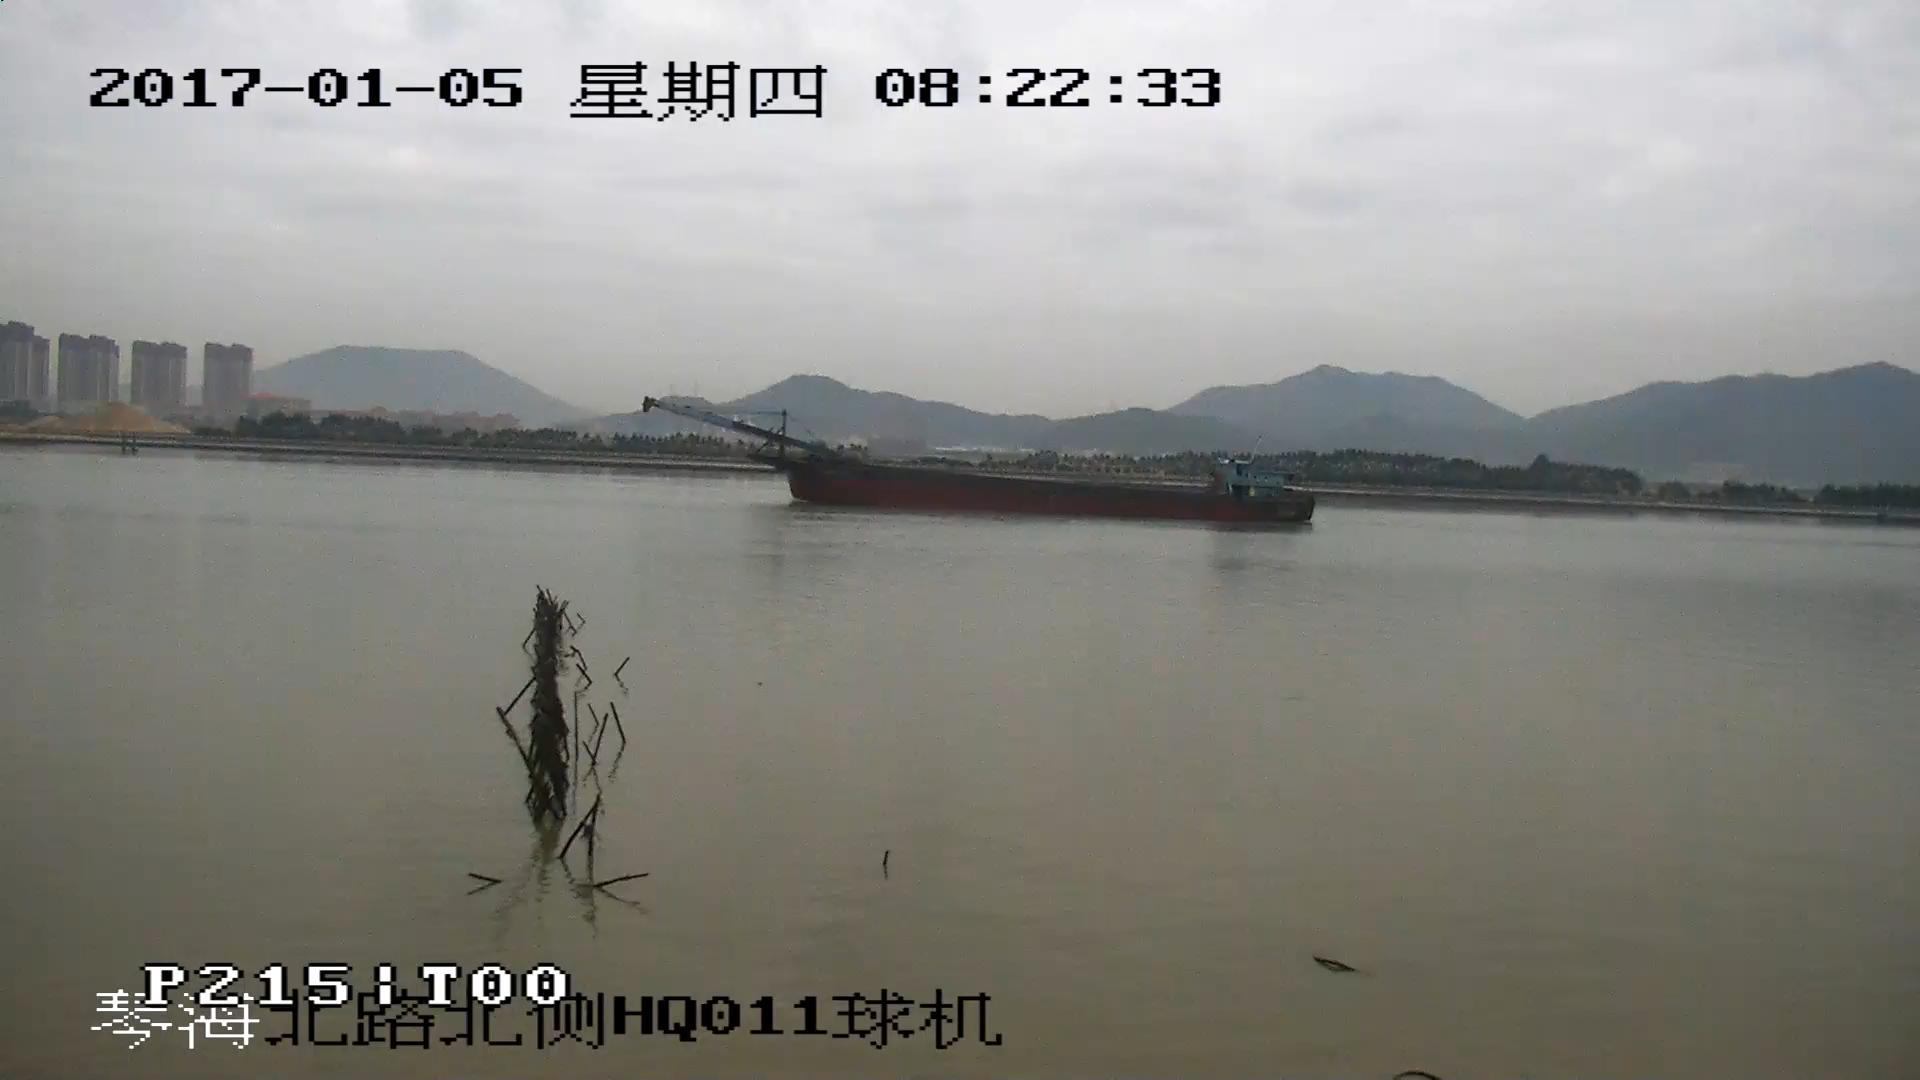Ship: (647, 404, 1319, 525)
